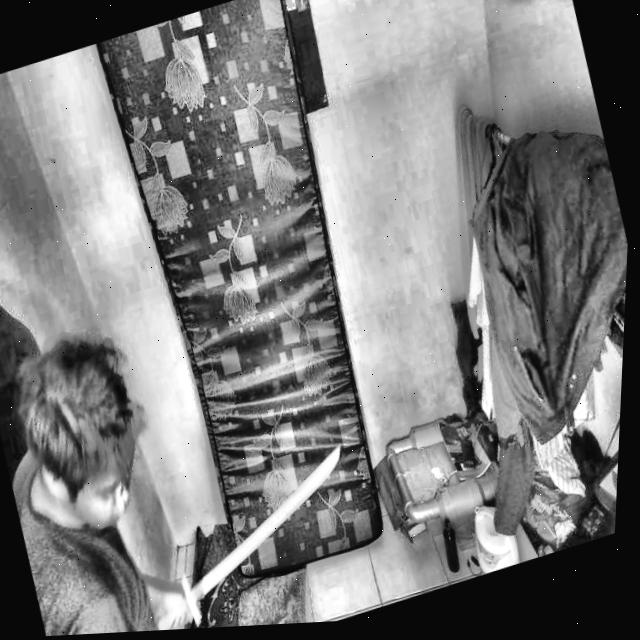pisau: (139, 437, 352, 631)
robbery: (0, 248, 396, 640)
